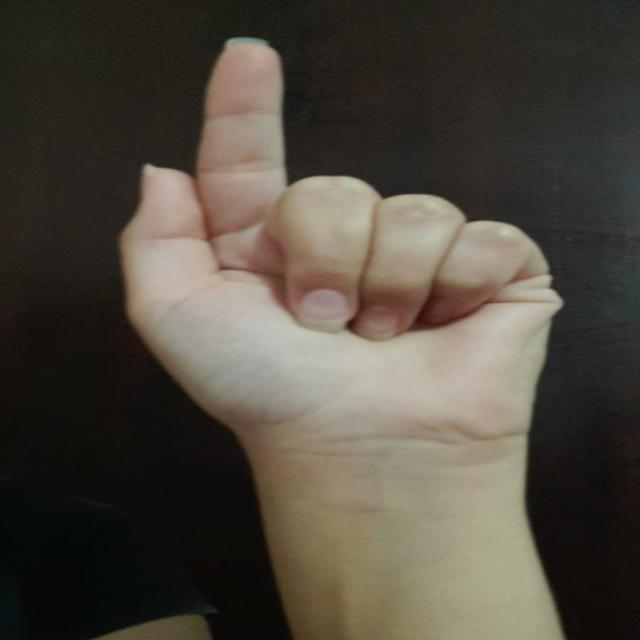G: (89, 32, 591, 434)
